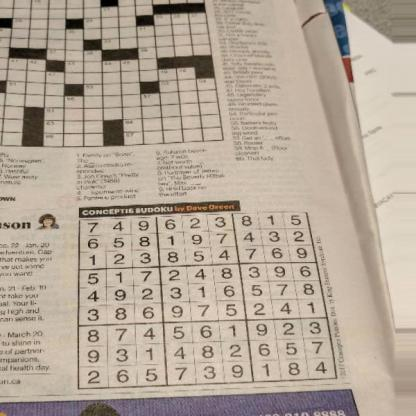sudoku: (76, 209, 340, 390)
